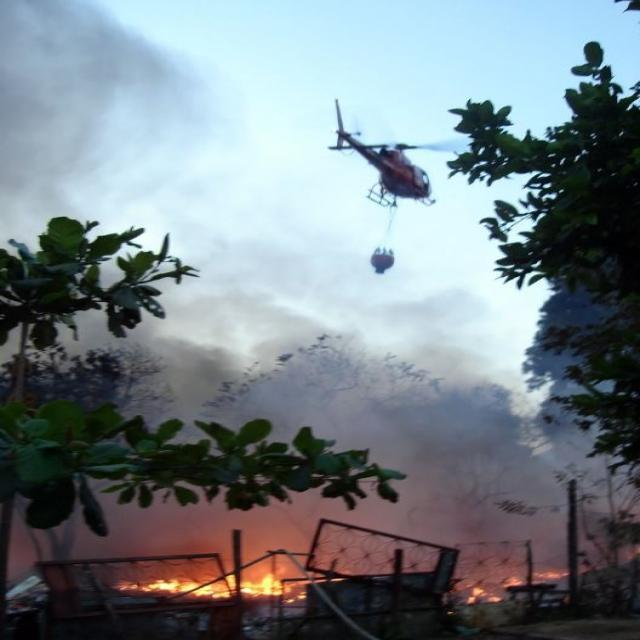Fire: (117, 562, 306, 612), (464, 566, 566, 608)
Smoke: (8, 4, 617, 568), (368, 282, 620, 537), (315, 260, 538, 488), (61, 302, 250, 545)
